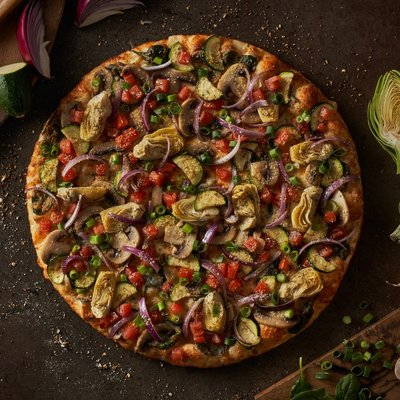sandwich: (28, 33, 362, 364), (277, 306, 400, 400)
